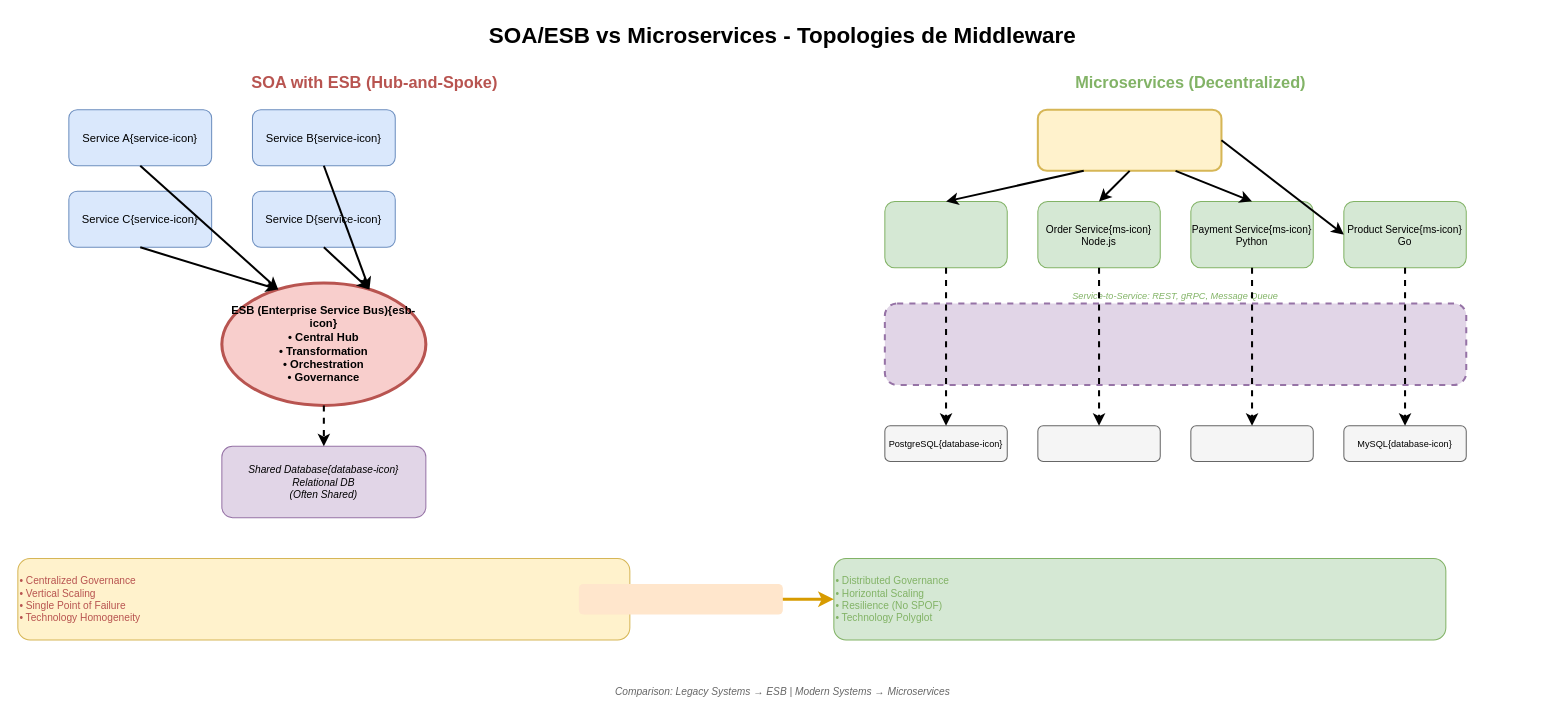
Image size: 1566x718. Some labels were removed from this diagram. Each missing label, with the centre of its shape:
API Gateway{api-gateway-icon} • Routing • Auth • Rate Limiting: (x=1129, y=139)
Migration: Strangler Fig | API-First: (x=680, y=598)
MongoDB{database-icon}: (x=1098, y=443)
Redis{database-icon}: (x=1251, y=443)
Service Mesh{mesh-icon} Istio / Linkerd • mTLS, Circuit Breaker • Observability: (x=1175, y=344)
User Service{ms-icon} Java/Spring: (x=945, y=234)
